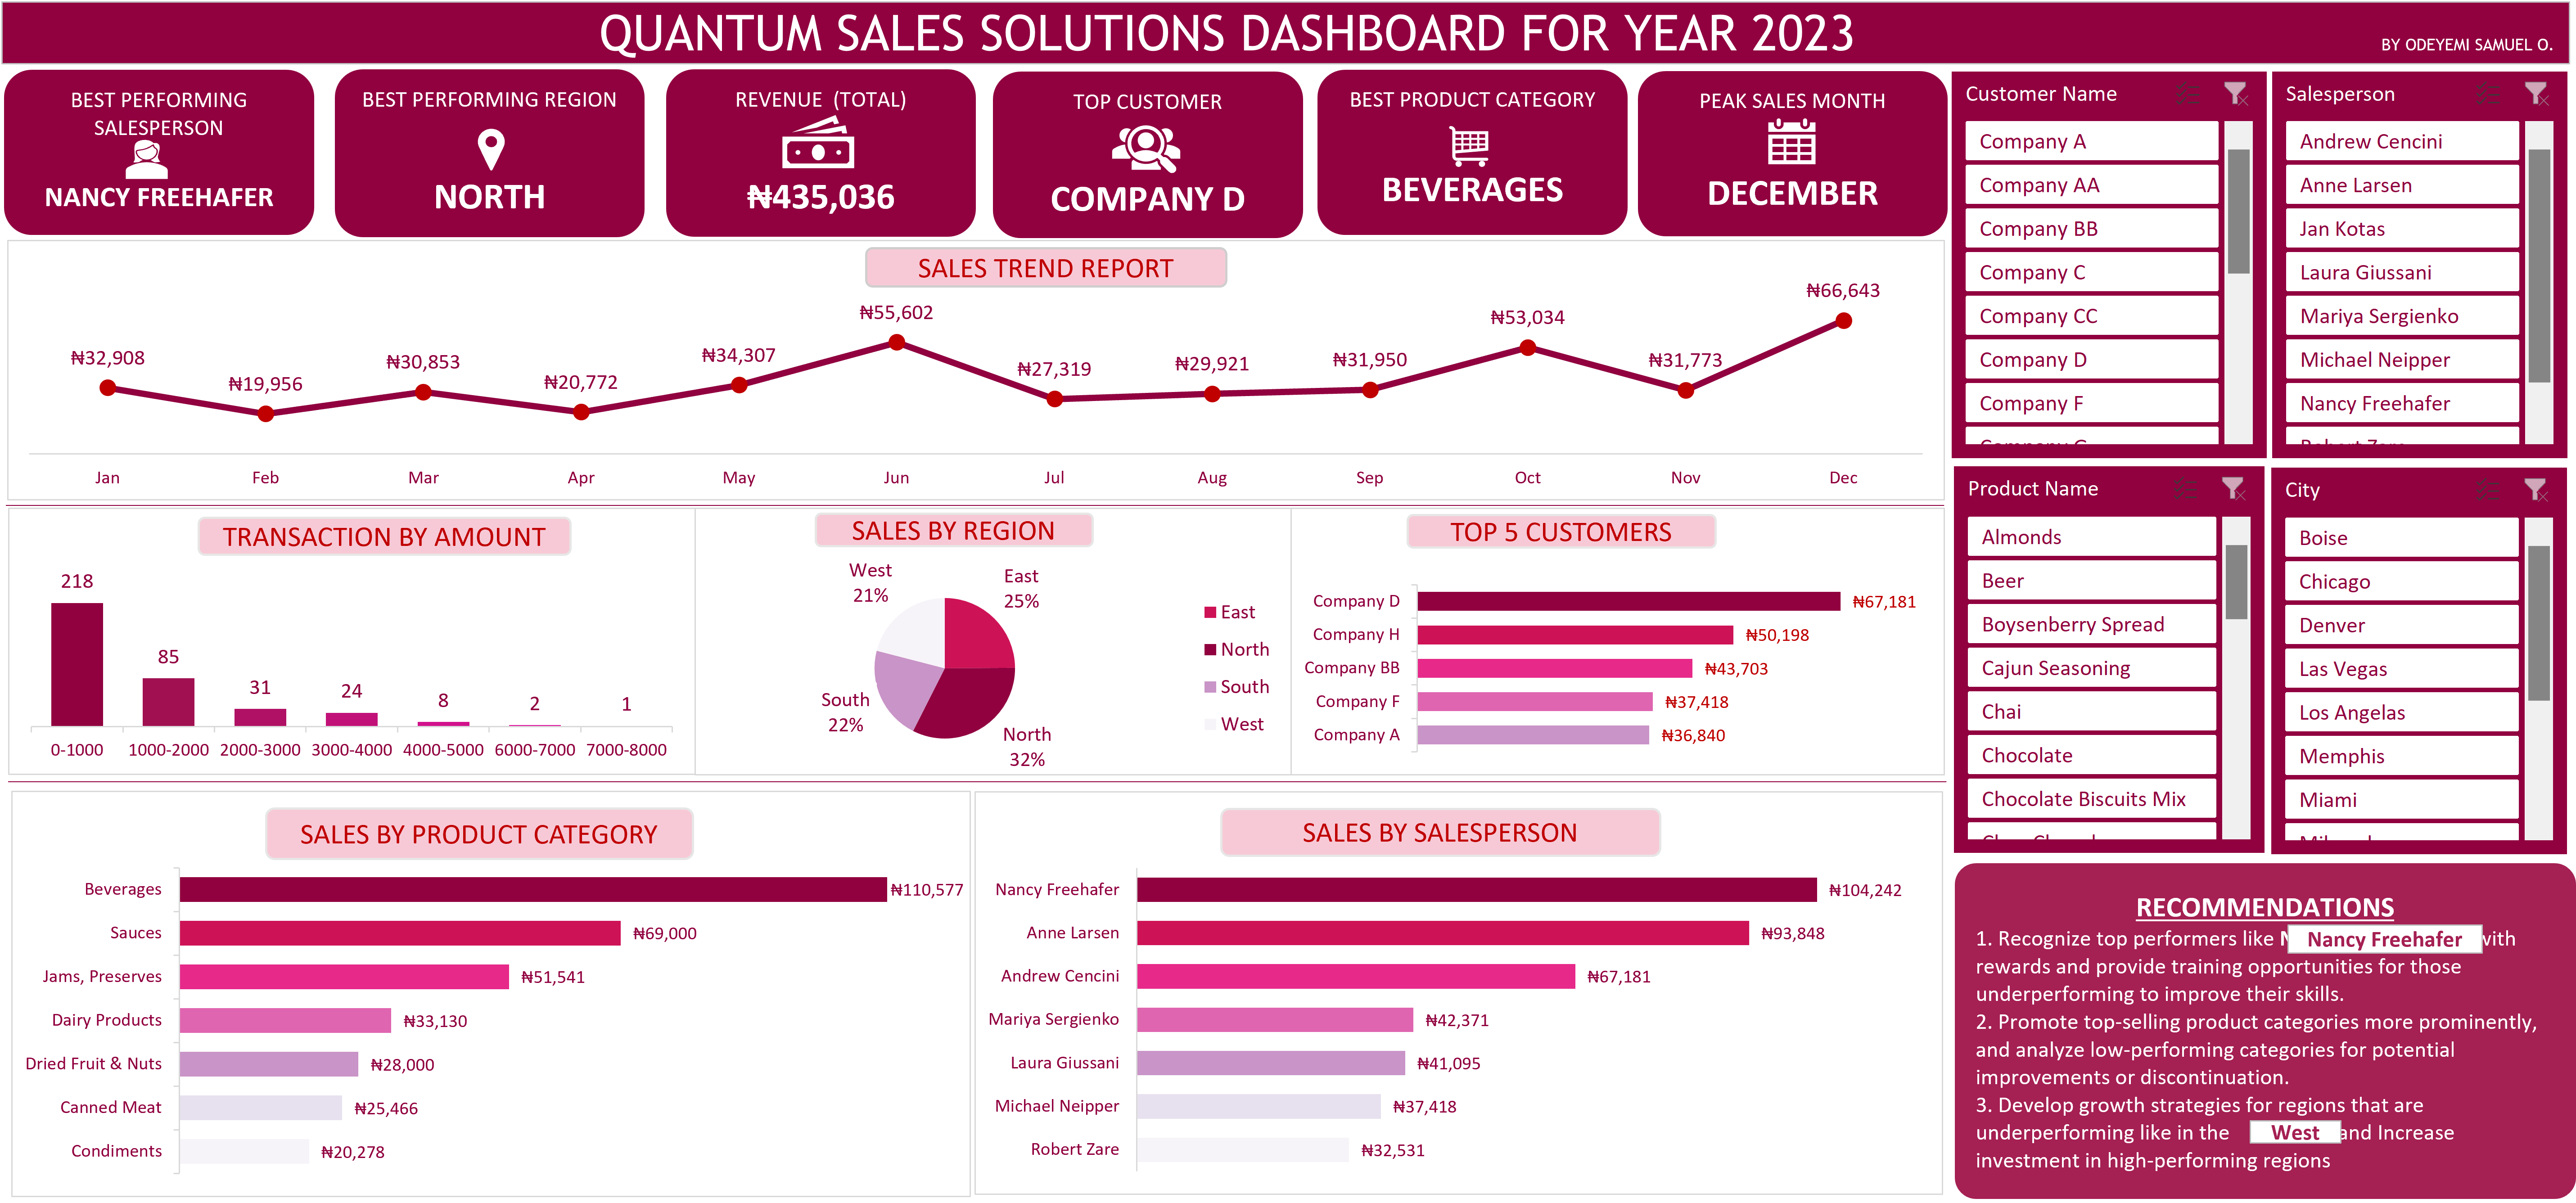

What the dashboard file says about the page in this screenshot:
{"tool":"powerbi","page":{"name":"Page 1","canvas":[1320,740],"ordinal":0},"visuals":[{"type":"image","box":[9.2,0,443.8,430.7],"z":0},{"type":"image","box":[464.2,0,442.7,430.5],"z":1},{"type":"image","box":[9.4,353.9,444,386.1],"z":2},{"type":"image","box":[464.2,353.9,442.7,386.1],"z":3},{"type":"image","box":[846.3,285.2,472.3,193.7],"z":4},{"type":"image","box":[920.3,441.3,325.6,282.5],"z":5},{"type":"image","box":[920.3,60.5,325.6,242.2],"z":6},{"type":"textbox","box":[13.5,8.1,1232.4,65.9],"z":7},{"type":"shape","box":[13.5,359.2,890.7,45.7],"z":8},{"type":"shape","box":[9.4,684.8,1236.5,45.7],"z":9}]}

Visuals, with their boxes on the page's 1320x740 design canvas (x1, y1, x2, y2). These are canvas units, not pixel positions in the 2576x1203 screenshot, which may show the page scaled, cropped or inside an application window:
image: bbox=[9, 0, 453, 431]
image: bbox=[464, 0, 907, 430]
image: bbox=[9, 354, 453, 740]
image: bbox=[464, 354, 907, 740]
image: bbox=[846, 285, 1319, 479]
image: bbox=[920, 441, 1246, 724]
image: bbox=[920, 60, 1246, 303]
textbox: bbox=[14, 8, 1246, 74]
shape: bbox=[14, 359, 904, 405]
shape: bbox=[9, 685, 1246, 730]
